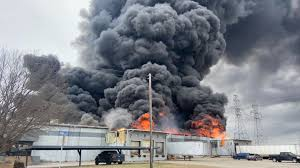smoke: (60, 63, 300, 122), (75, 1, 300, 62)
